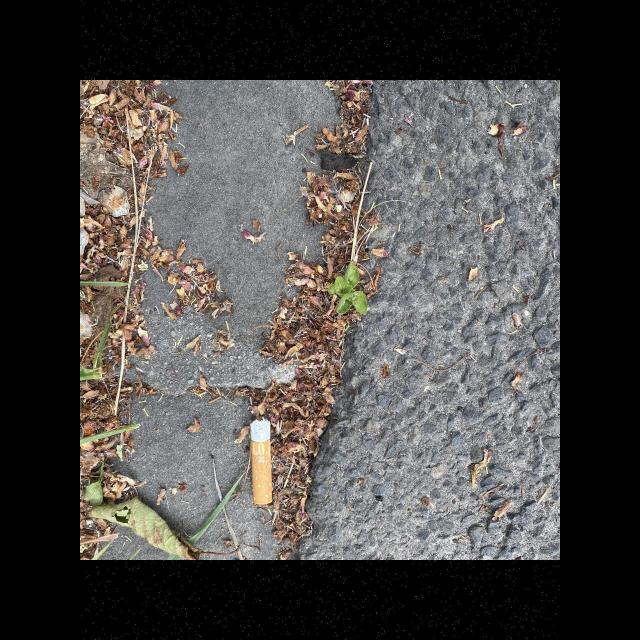cigarette: (250, 417, 272, 505)
